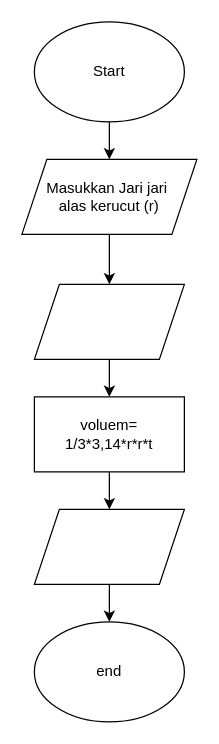
The diagram is 219 pixels wide and 744 high, and some of its shapes have lost their labels. Here are the shapes that lost their labels. From the top down, the box of each, then its label:
(33, 283, 184, 359): Masukkan tinggi keruuct (t)
(33, 508, 184, 584): hasil perhitungan volume kerucut
